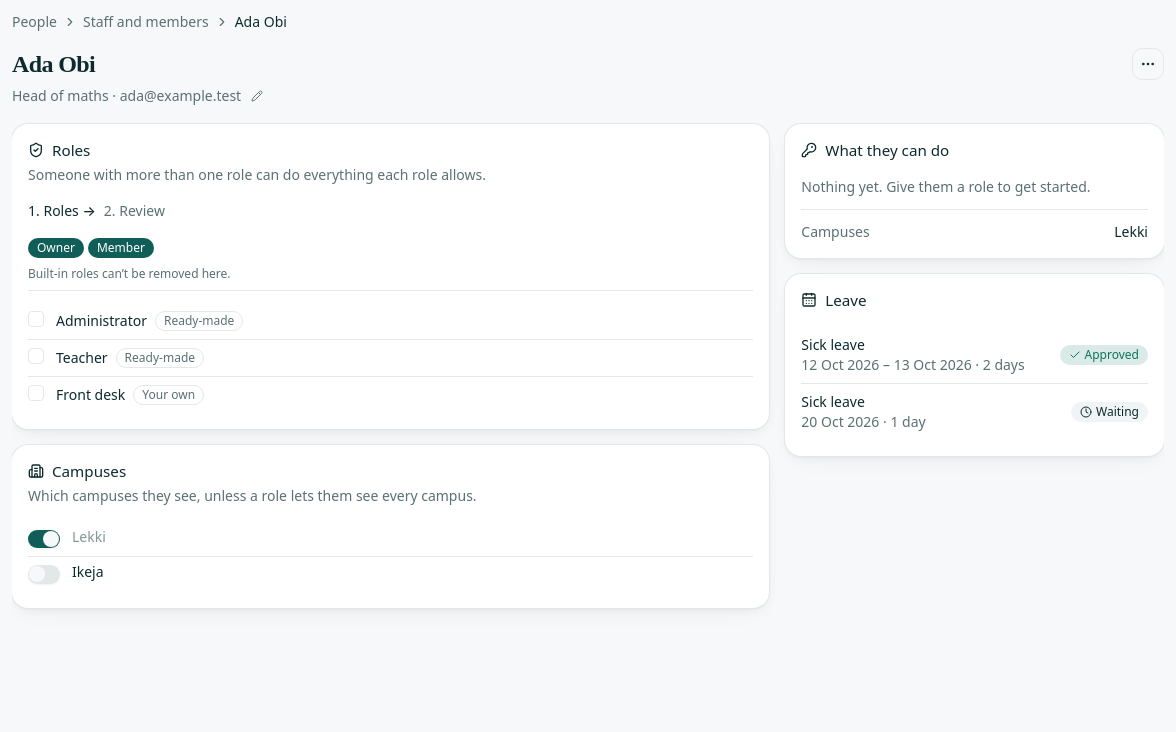
Test case: MemberPage › shows Remove for an owner when there is a second owner
Click the button named "More actions": (1148, 64) [1132,48,1164,80]
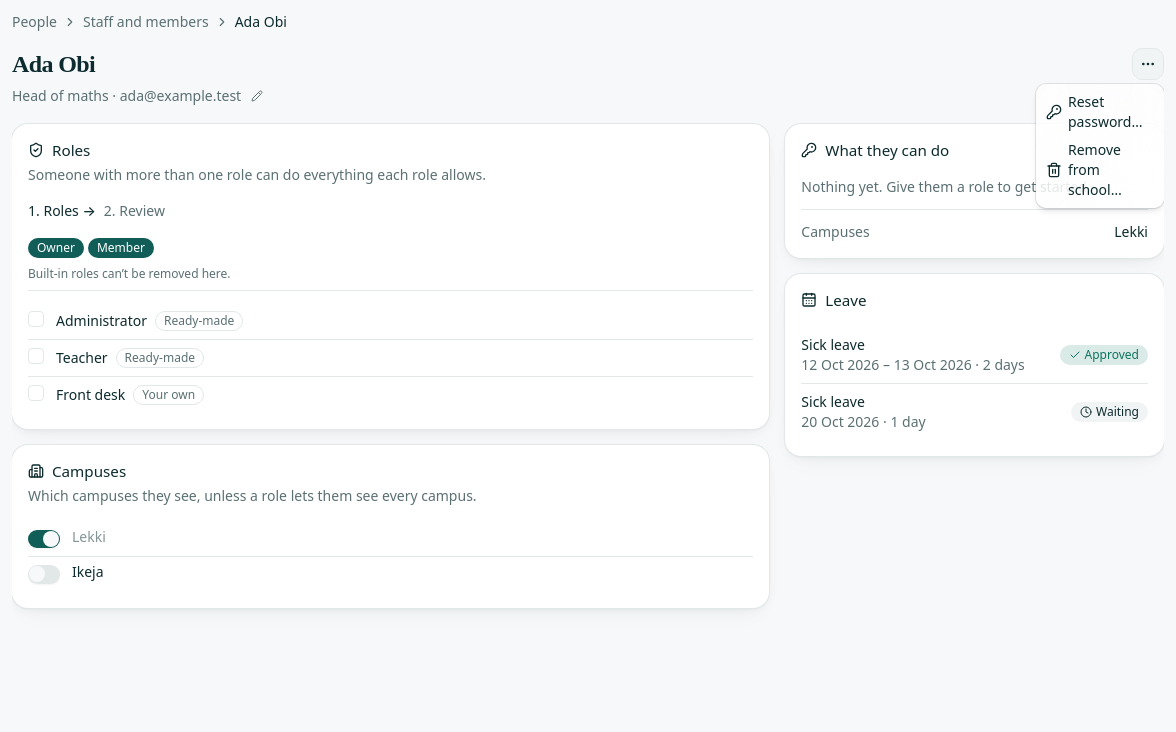
Now the menu item "Remove from school…" is shown, box [1046,140,1122,199]
